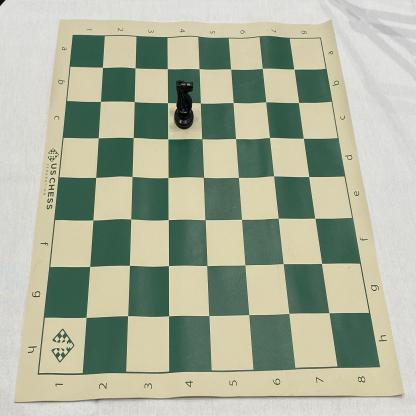black-knight: (173, 79, 195, 131)
